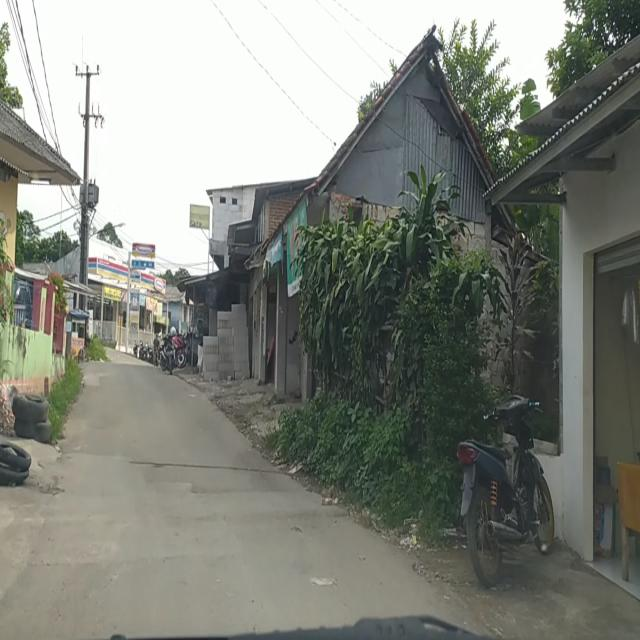Sewer Cover: (126, 456, 268, 474)
